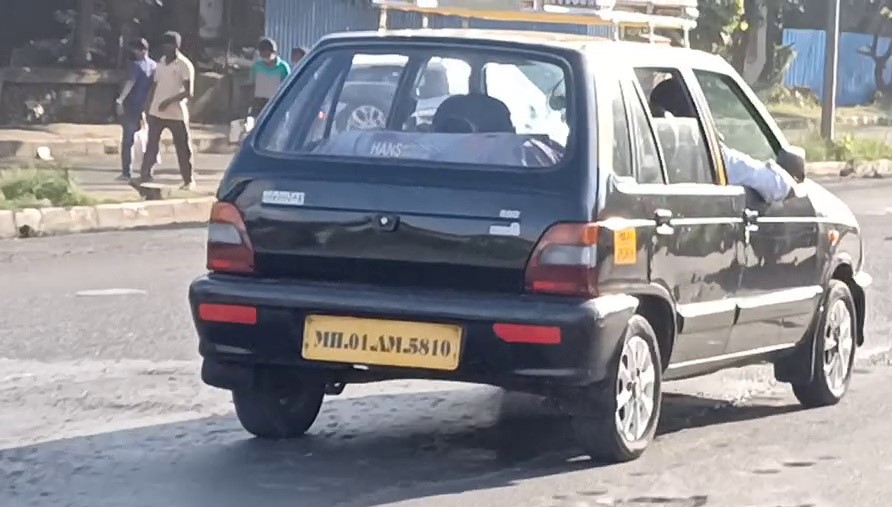MH01AM5810: (300, 311, 462, 372)
